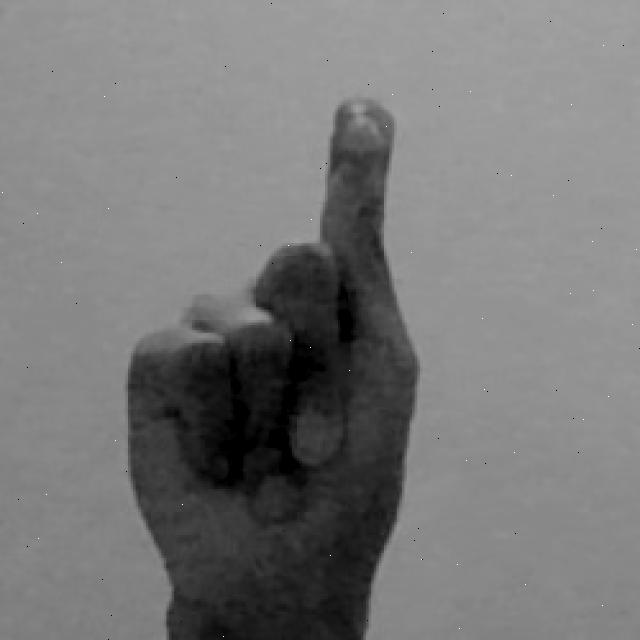T: (120, 92, 422, 640)
